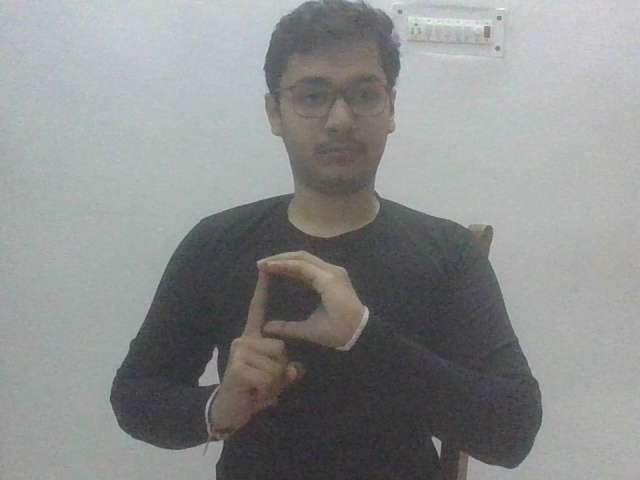D: (208, 248, 369, 434)
